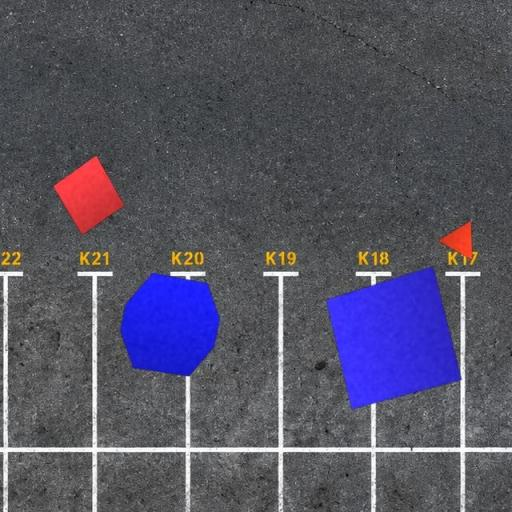BLUE_SQUARE: (325, 266, 462, 410)
RED_SQUARE: (52, 154, 125, 236)
